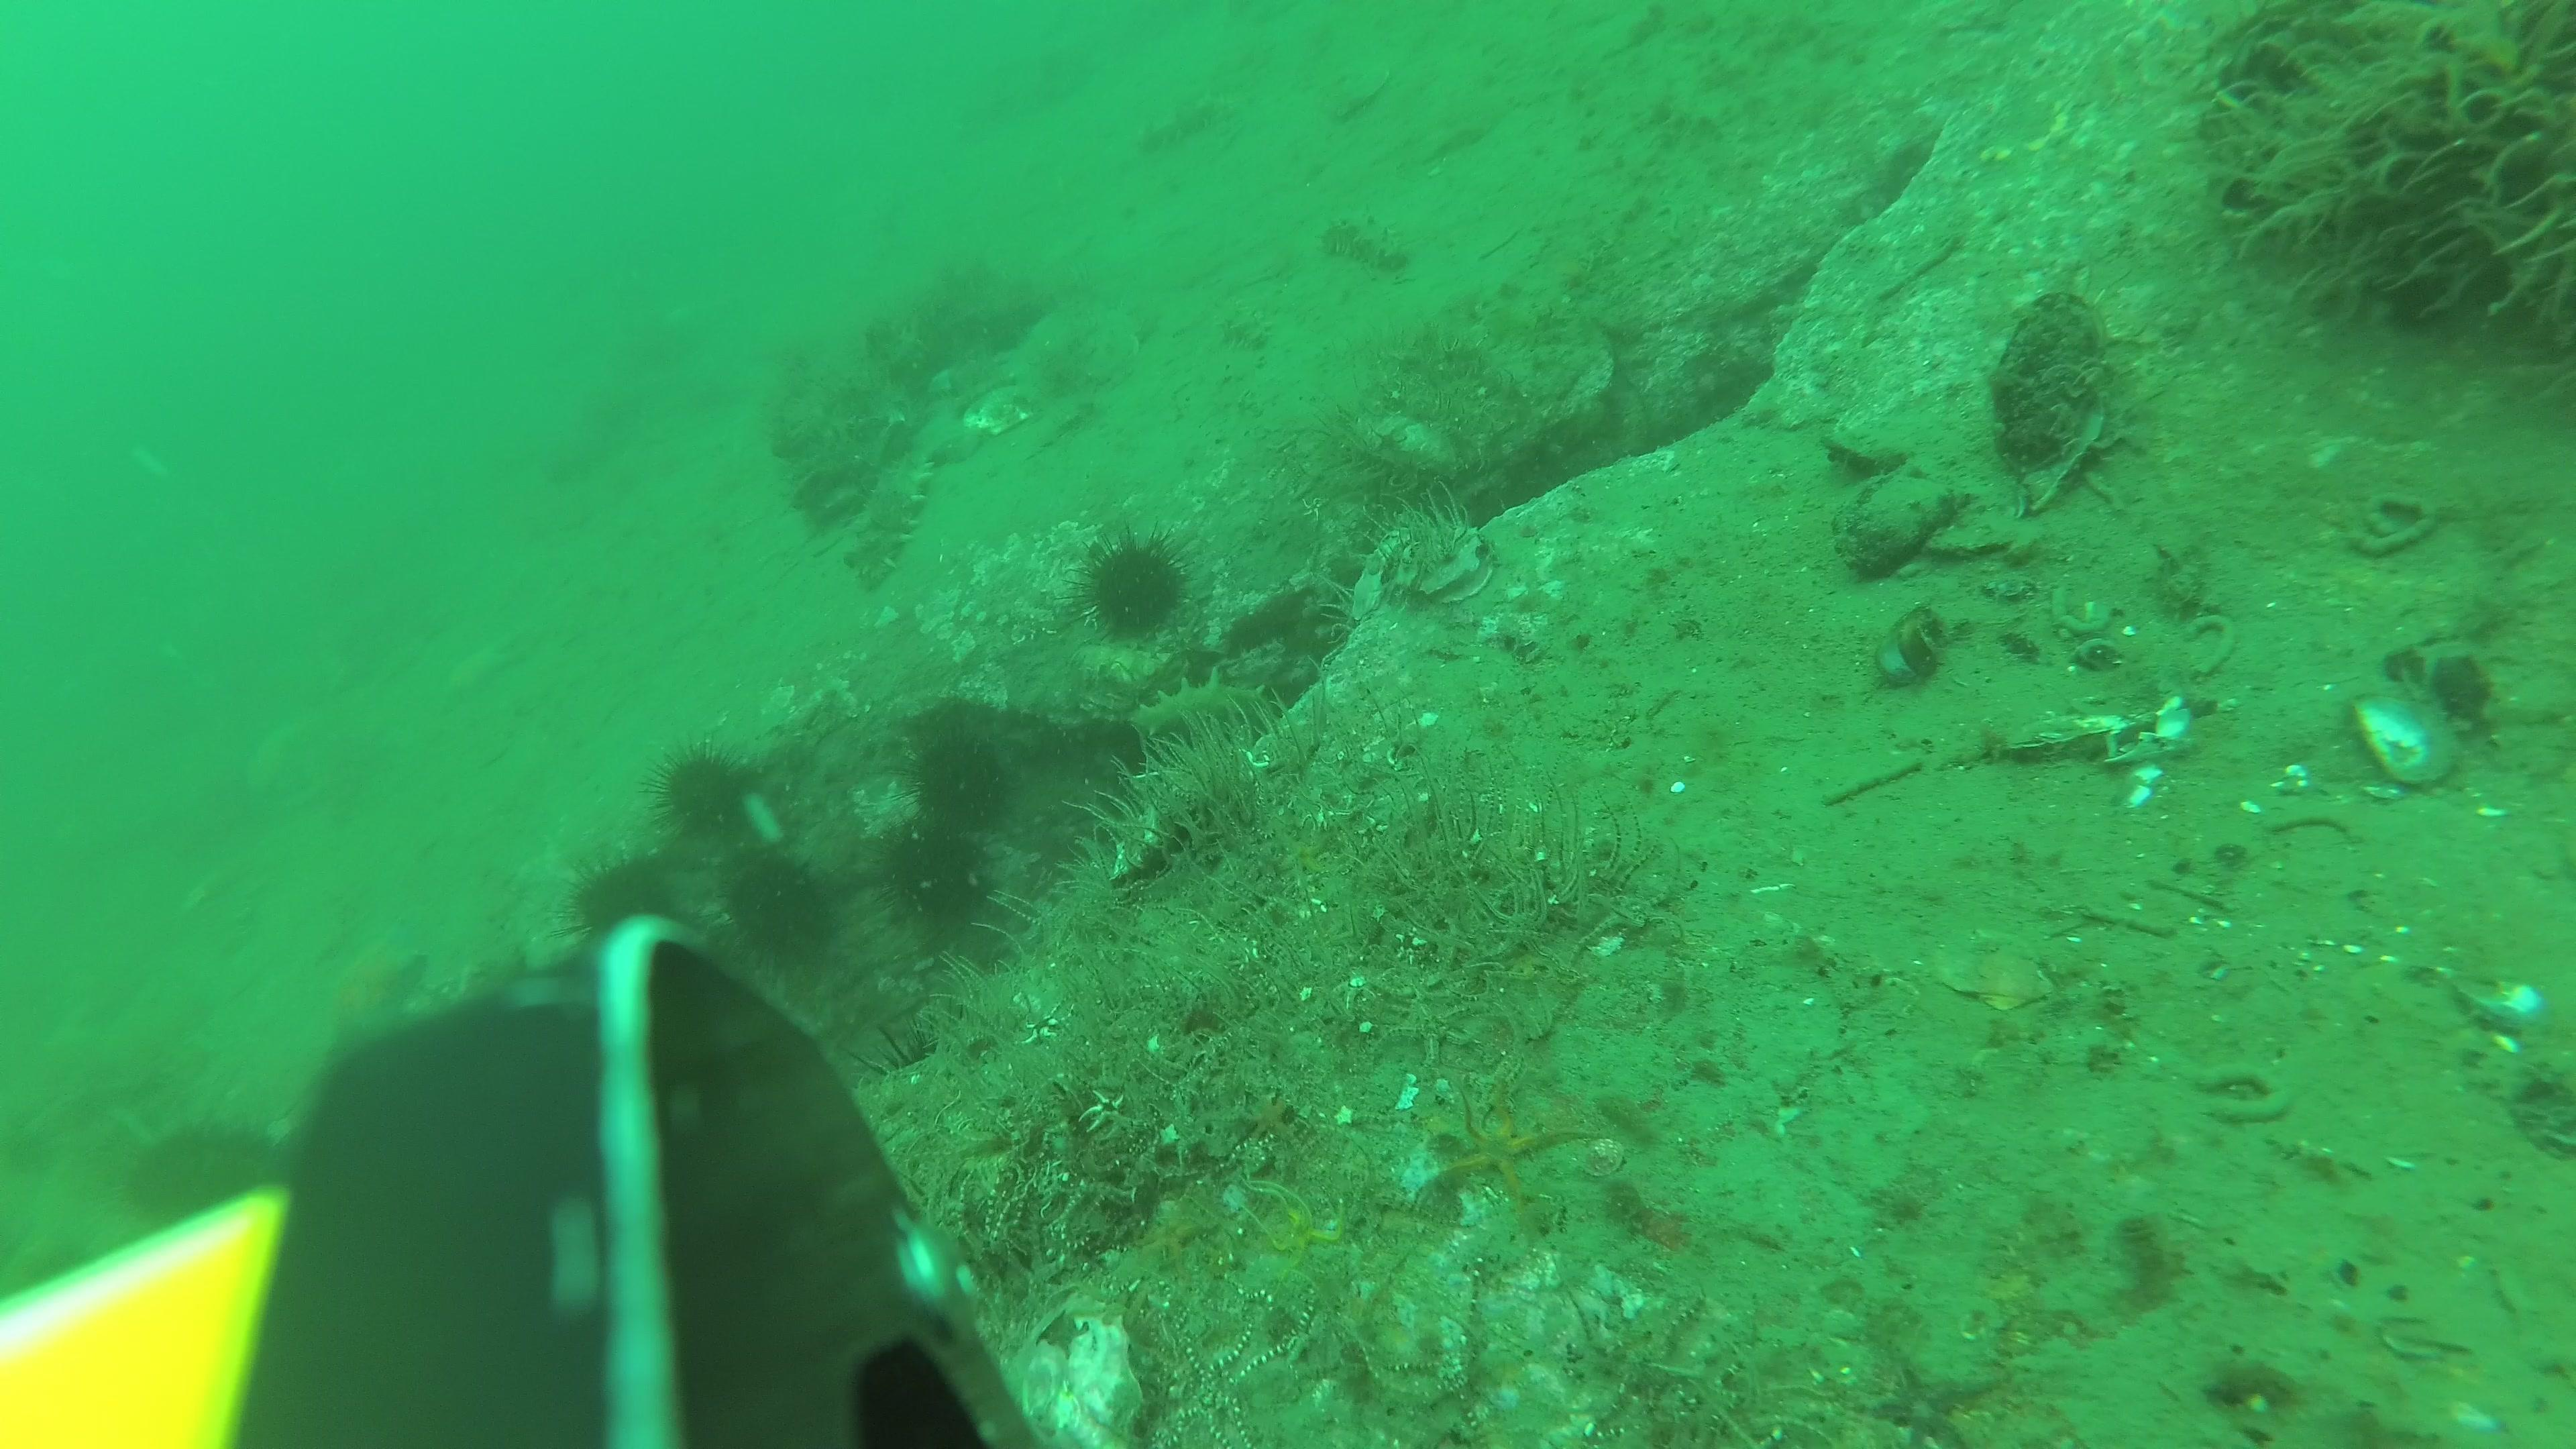echinus: (867, 1012, 987, 1127), (138, 1125, 280, 1223), (564, 858, 686, 962), (1079, 534, 1191, 648), (727, 858, 824, 959), (922, 732, 1012, 840), (901, 828, 989, 938), (662, 750, 752, 855)
holothurian: (1136, 674, 1284, 752), (860, 448, 936, 594), (1323, 214, 1407, 280), (1139, 92, 1224, 150), (1219, 303, 1274, 354)
scallop: (1941, 925, 2051, 1014), (970, 389, 1037, 437), (1334, 64, 1392, 117)
starfish: (1442, 1077, 1596, 1208)
